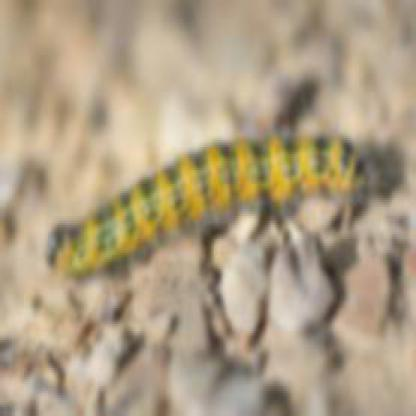pieris: (52, 139, 360, 272)
